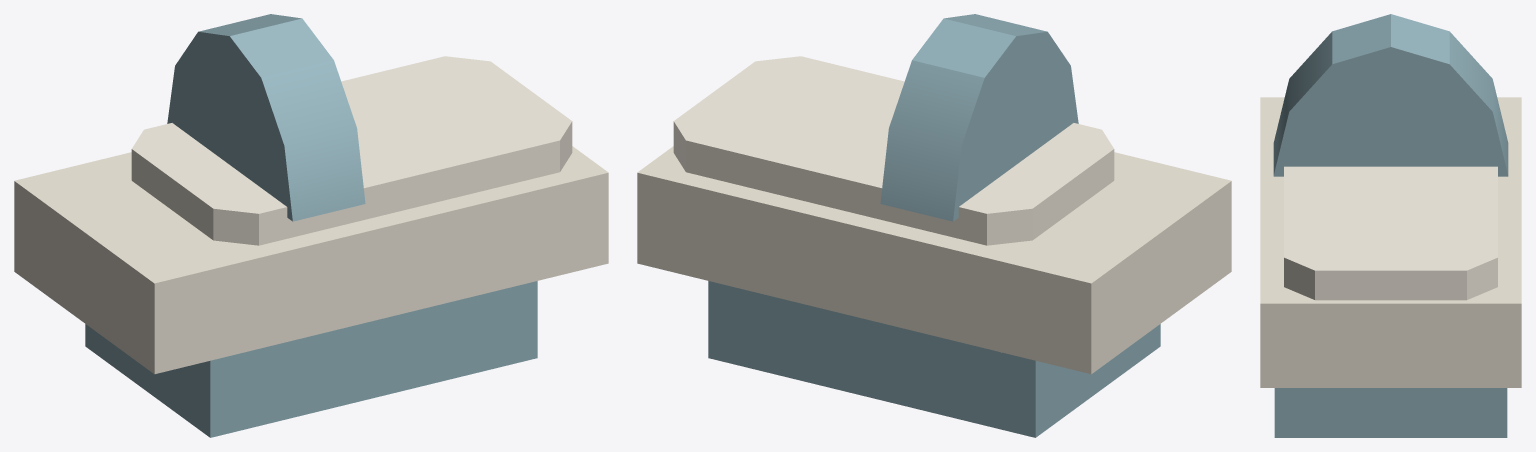
File: prop_bio_scanner_v4_ShadowProxy.glb
3 views of the same model, side by side, from view 1: azimuth 30°, elevation 25°; view 2: azimuth 150°, elevation 25°; view 3: azimuth 270°, elevation 25° (orthographic). The views are drawn at different scales.
Parts seen in each view (by area): view 1: prop_bio_scanner_v4_ShadowProxy / Primary assembly; view 2: prop_bio_scanner_v4_ShadowProxy / Primary assembly; view 3: prop_bio_scanner_v4_ShadowProxy / Primary assembly.
Part boxes in pixels (left/top/right/bottom): prop_bio_scanner_v4_ShadowProxy / Primary assembly: left=14, top=14, right=608, bottom=437; prop_bio_scanner_v4_ShadowProxy / Primary assembly: left=637, top=14, right=1231, bottom=437; prop_bio_scanner_v4_ShadowProxy / Primary assembly: left=1260, top=14, right=1521, bottom=437.
Bounding box in the file's own units: 1.57 × 1.11 × 0.84.
